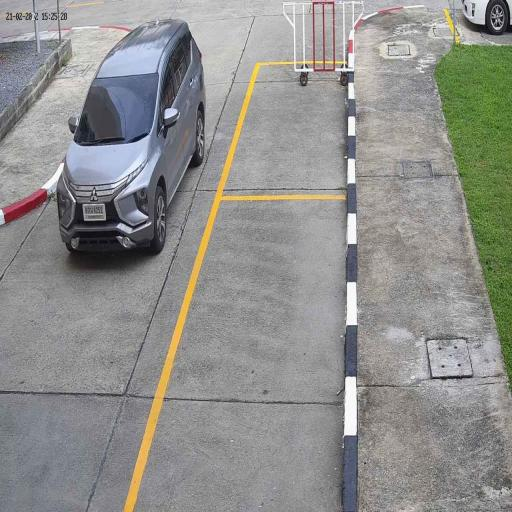car: (56, 16, 209, 260)
